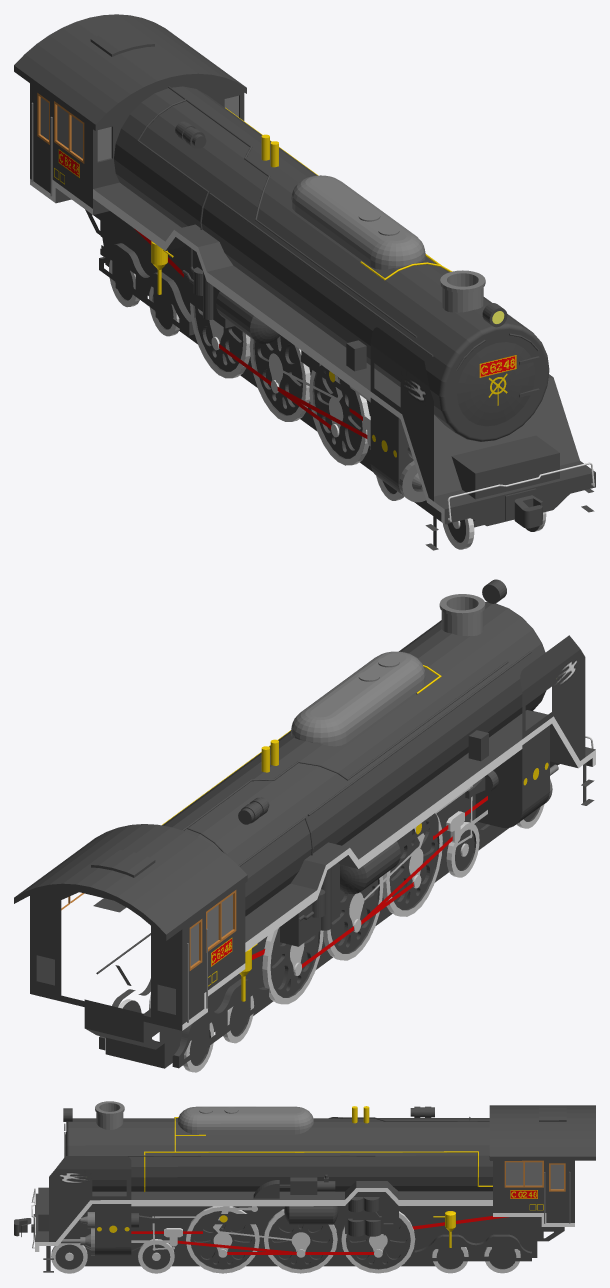
The model's file is C62-simple-car1.glb.
The picture shows the model from 3 angles, top to bottom: view 1: azimuth 30°, elevation 25°; view 2: azimuth 150°, elevation 25°; view 3: azimuth 270°, elevation 25°; orthographic projection. The views are drawn at different scales.
Visible parts, largest first — view 1: コンポーネント, Component#6.001, Component#6.002, Component#6, Object_24, Component#3; view 2: コンポーネント, Component#6.002, Component#6, Component#6.001, Component#3.001; view 3: コンポーネント, Component#6.003, Component#6.004, Component#6.005, Component#3.003, Component#3.002, Object_50, Component#4.003, Component#4.002, Component#2.002, Component#2.001, Component#2 (+1 smaller).
Part boxes in pixels (<box>): コンポーネント: <box>14,14,595,550</box>; Component#6.001: <box>249,336,310,421</box>; Component#6.002: <box>309,364,369,465</box>; Component#6: <box>190,303,250,378</box>; Object_24: <box>399,445,425,502</box>; Component#3: <box>442,518,474,549</box>; コンポーネント: <box>14,579,595,1068</box>; Component#6.002: <box>382,814,442,916</box>; Component#6: <box>262,927,323,1004</box>; Component#6.001: <box>323,876,383,960</box>; Component#3.001: <box>446,822,479,877</box>; コンポーネント: <box>14,1101,595,1272</box>; Component#6.003: <box>186,1206,259,1273</box>; Component#6.004: <box>264,1209,337,1273</box>; Component#6.005: <box>341,1211,415,1273</box>; Component#3.003: <box>138,1239,174,1273</box>; Component#3.002: <box>51,1242,87,1273</box>; Object_50: <box>61,1212,94,1255</box>; Component#4.003: <box>484,1247,520,1273</box>; Component#4.002: <box>432,1247,468,1273</box>; Component#2.002: <box>291,1232,310,1257</box>; Component#2.001: <box>369,1234,387,1257</box>; Component#2: <box>213,1233,232,1257</box>.
Bounding box in the file's own units: 2.98 × 4.16 × 14.24.
Materials: 11 (2 with a texture image).
